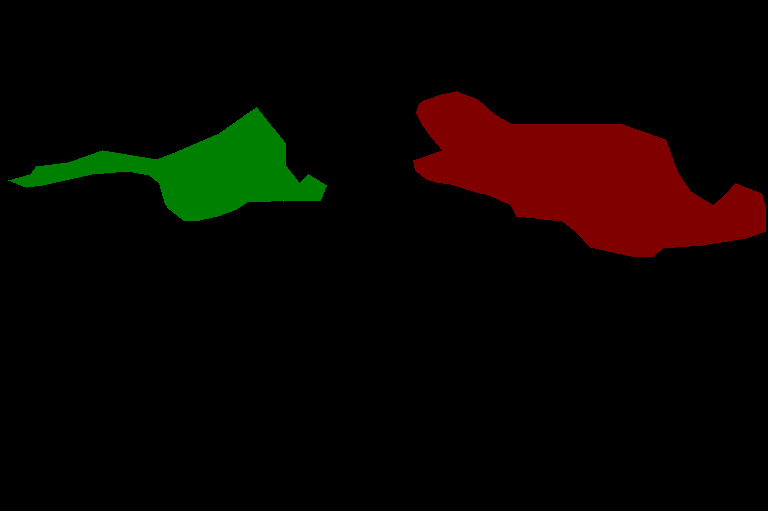fire: (413, 91, 765, 256), (8, 107, 326, 220)
